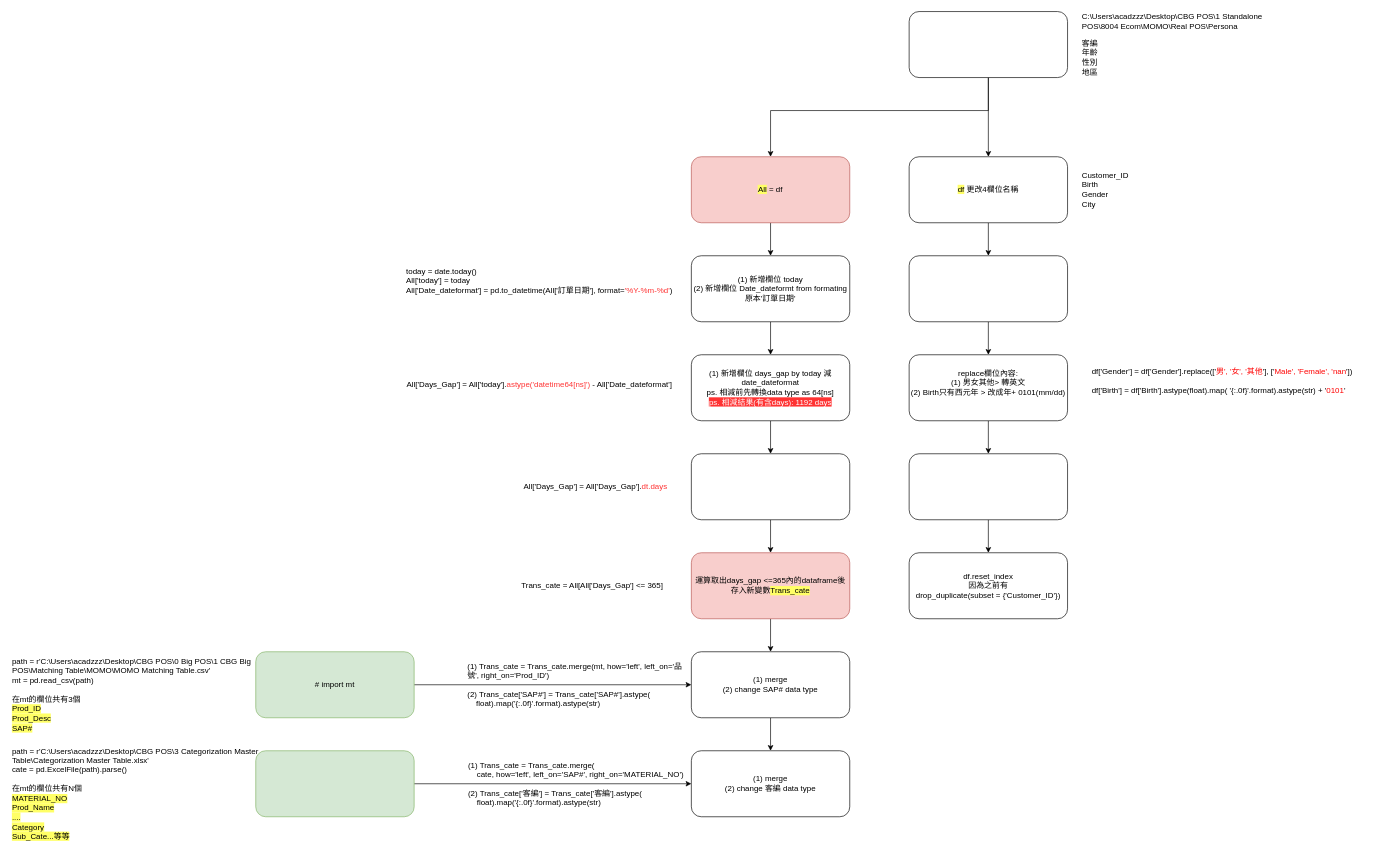
The diagram is 1389 pixels wide and 853 high, and some of its shapes have lost their labels. Here are the shapes that lost their labels. From the top down, the centre of each, then its label:
At pixel 988 44: "Source: MOMO Feat取出4欄位 append 資料夾內所有feat檔為 df".
At pixel 988 288: "drop_duplicate(subset = {'Customer_ID'})".
At pixel 770 486: "(1) 把剛剛的結果去掉days, 只留相差的天數數字部分 ps. 結果(去除days): 1192".
At pixel 988 486: "(1) Birth為空白or nan 則填入空白值 (2) 新增欄位channel = momo".
At pixel 334 783: "# import category table".
